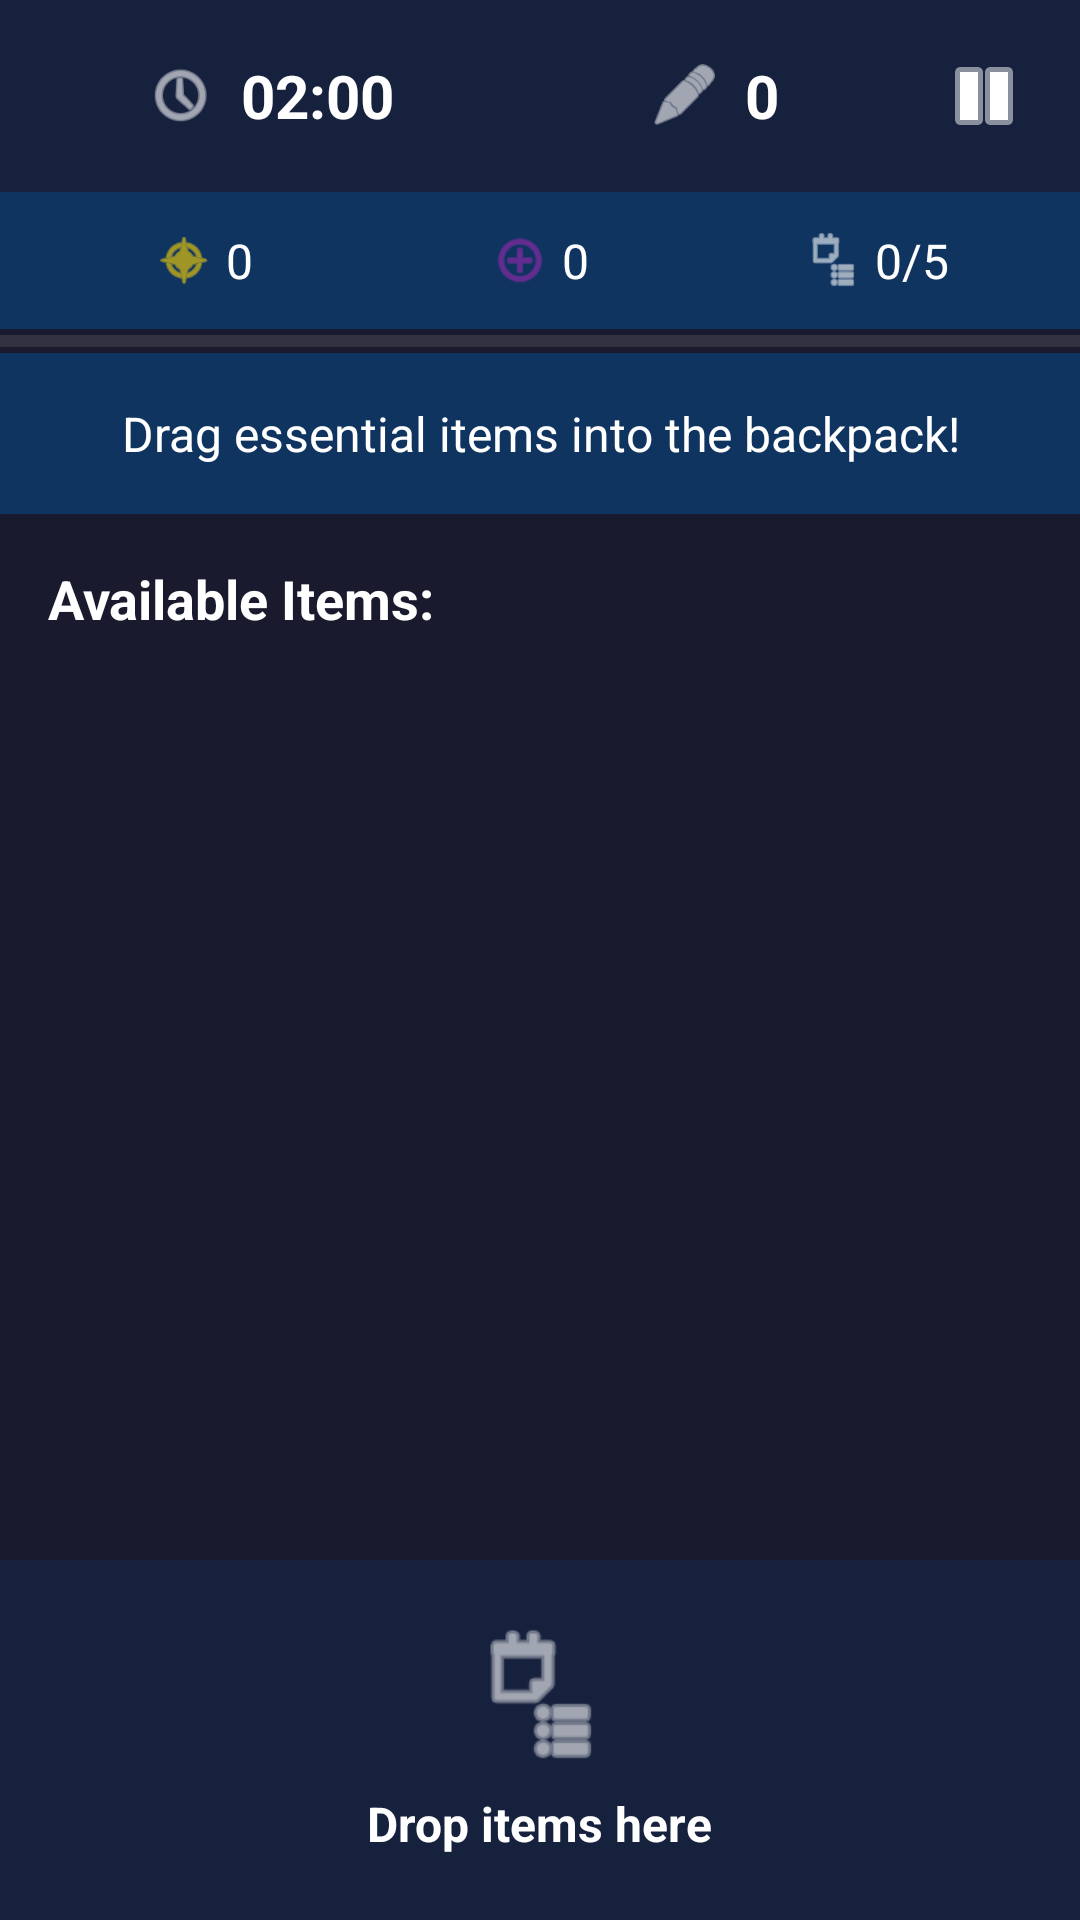

Named icons in this screenshot (1080w x 1920h) and their bounding boxes, (x1, y1, x2, y2):
add: (498, 238, 542, 283)
agenda: (812, 233, 854, 286), (490, 1630, 591, 1758)
edit: (654, 64, 715, 125)
pause: (955, 67, 1013, 125)
recent history: (155, 69, 207, 121)
